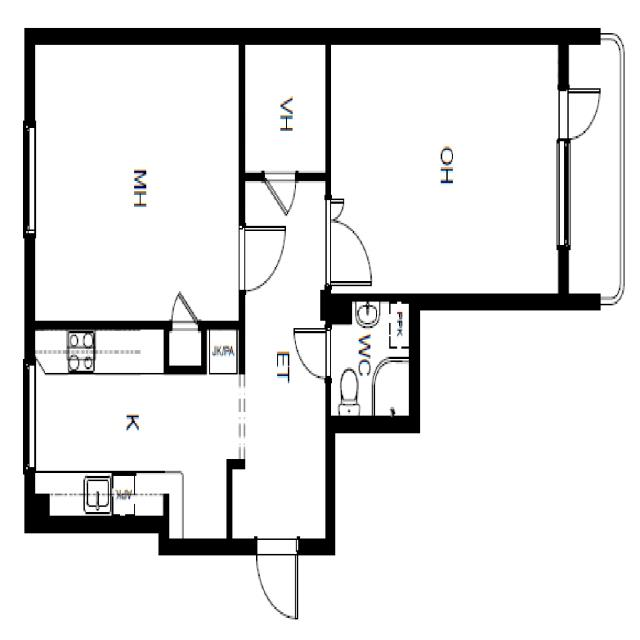door: (257, 538, 297, 618), (326, 220, 372, 285), (238, 227, 284, 289), (558, 88, 602, 139), (293, 328, 331, 380), (264, 173, 296, 230), (172, 282, 198, 330), (326, 197, 345, 220)
